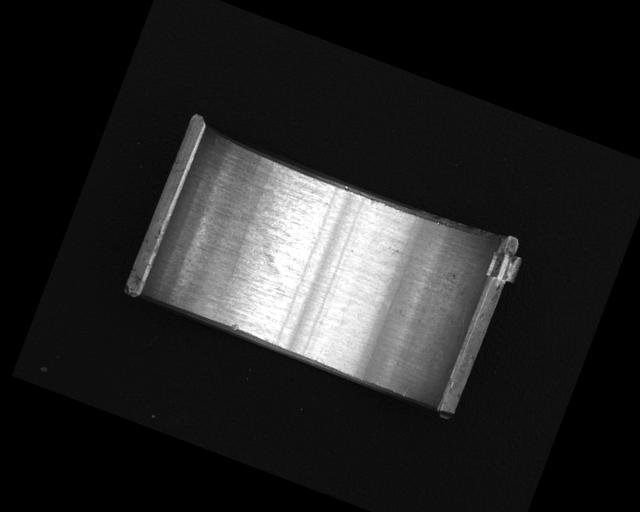bruise: (228, 320, 241, 331)
